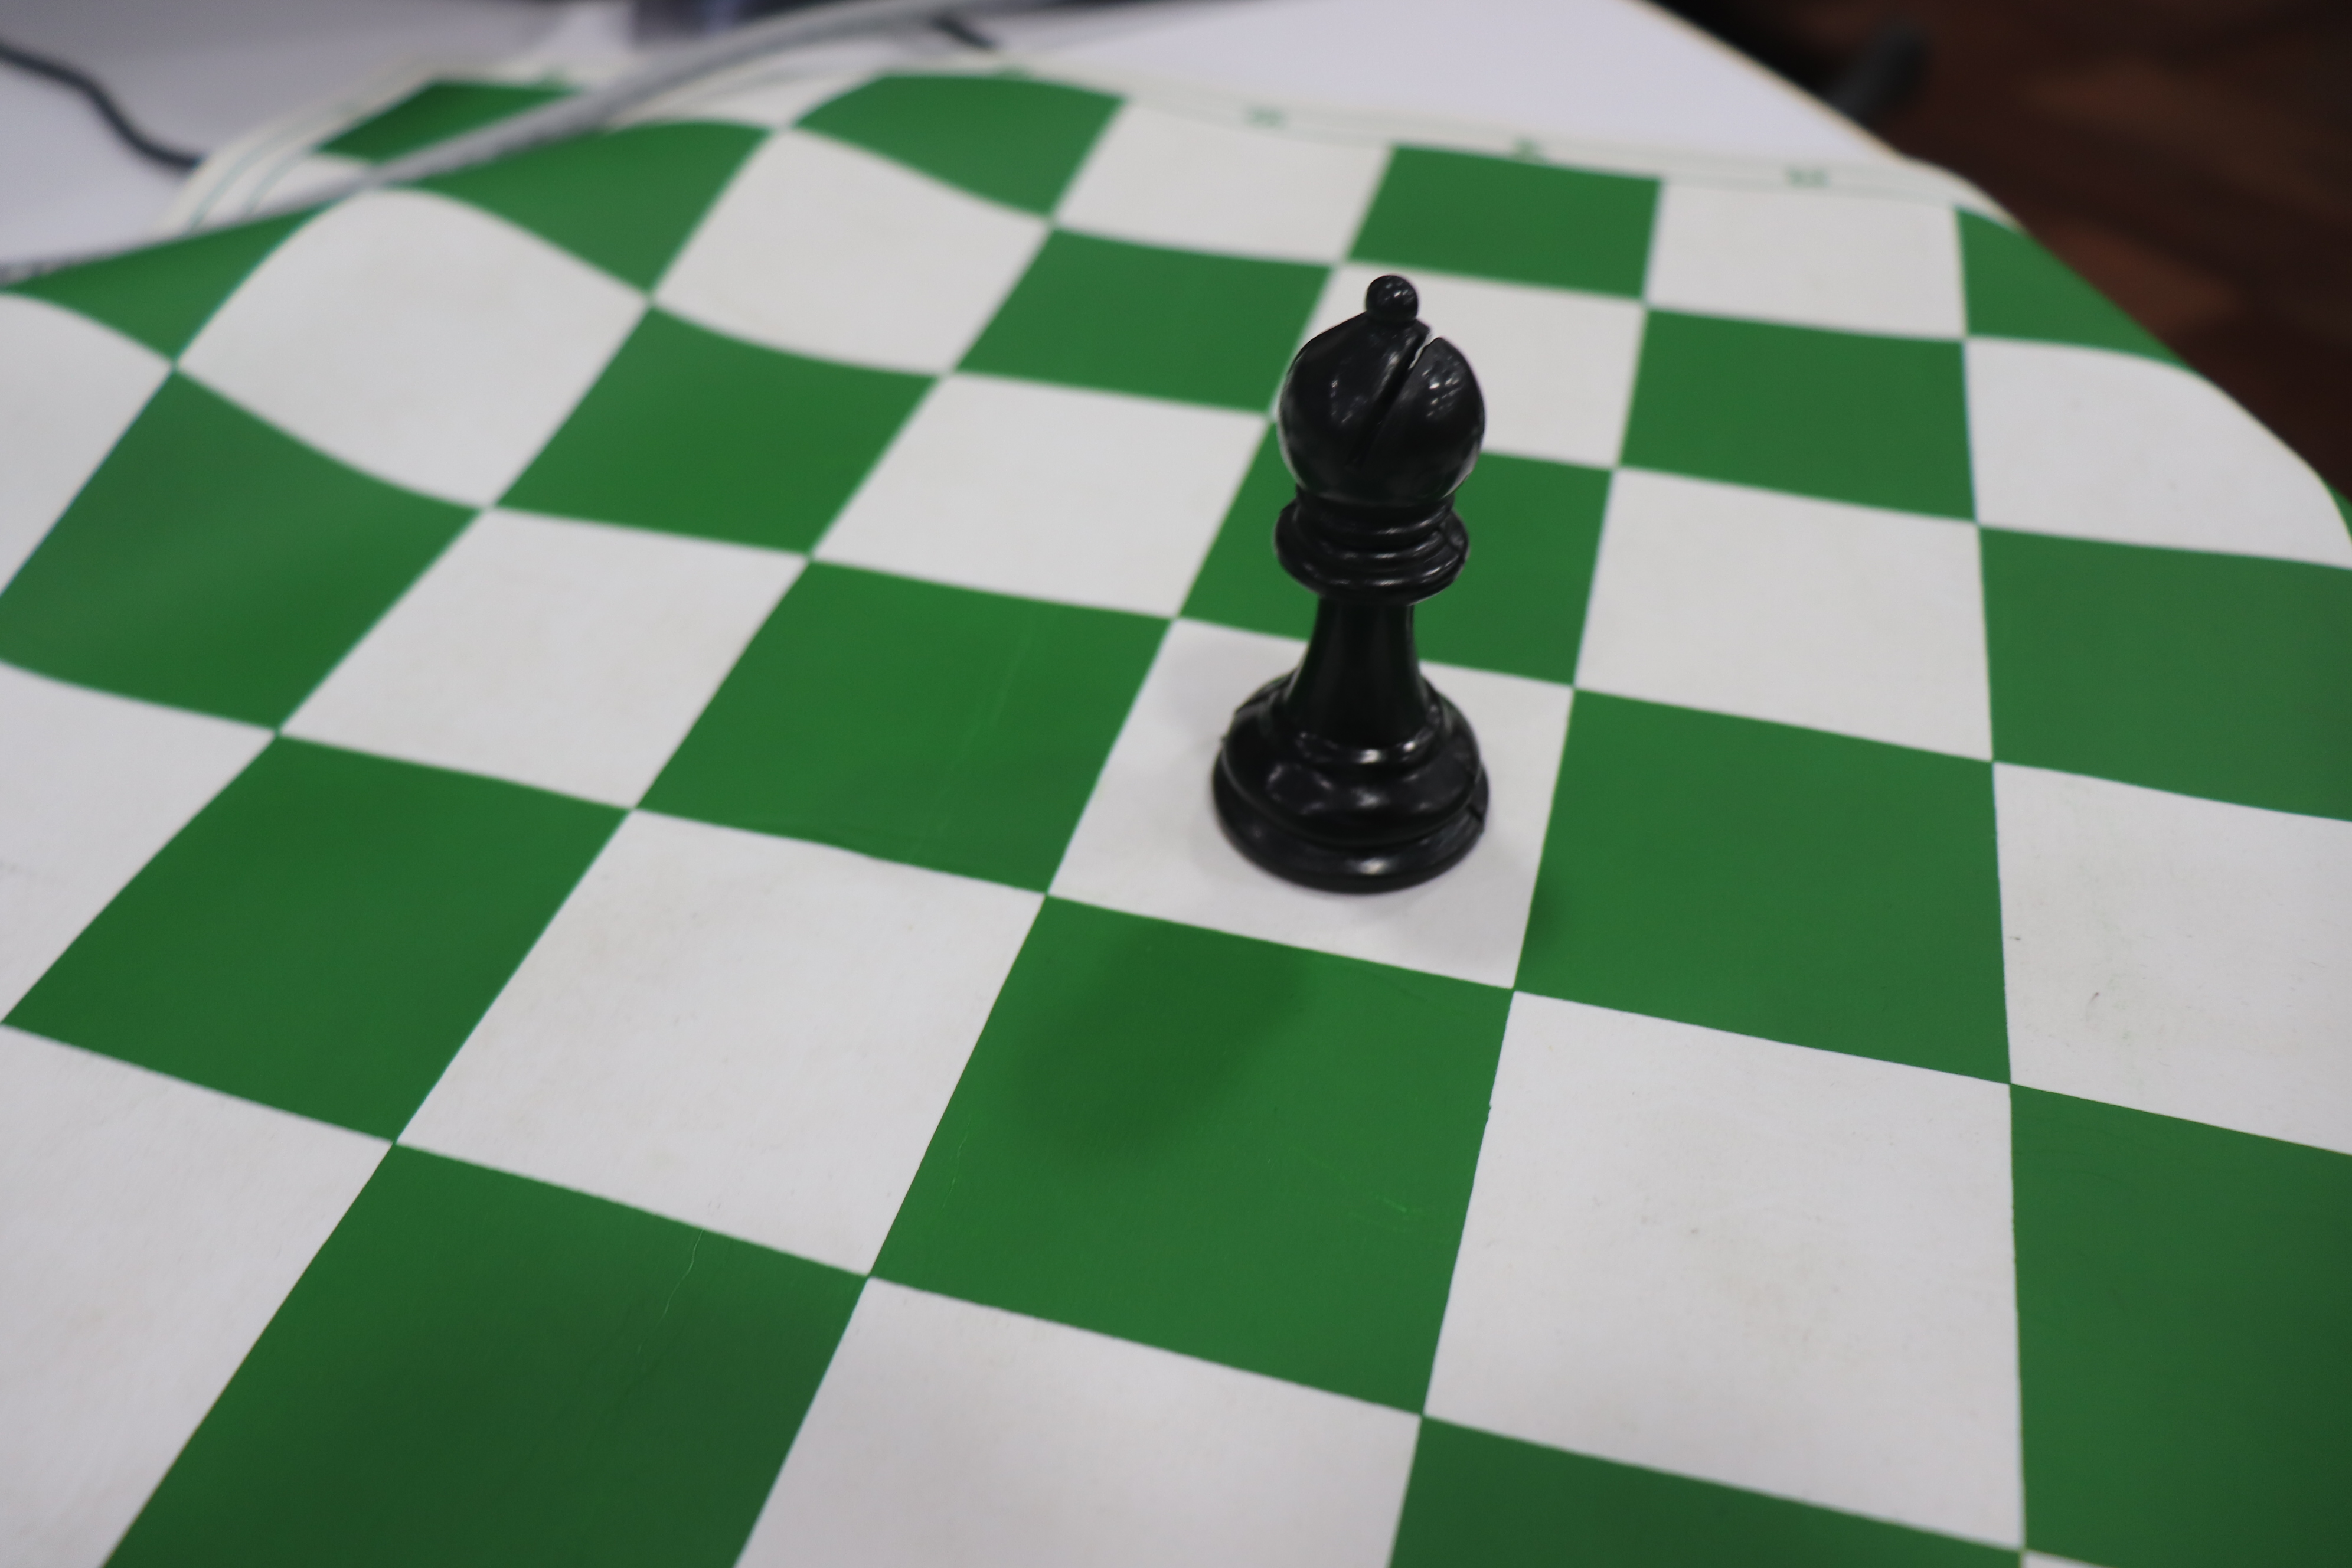black_bishop: (1178, 229, 1531, 924)
